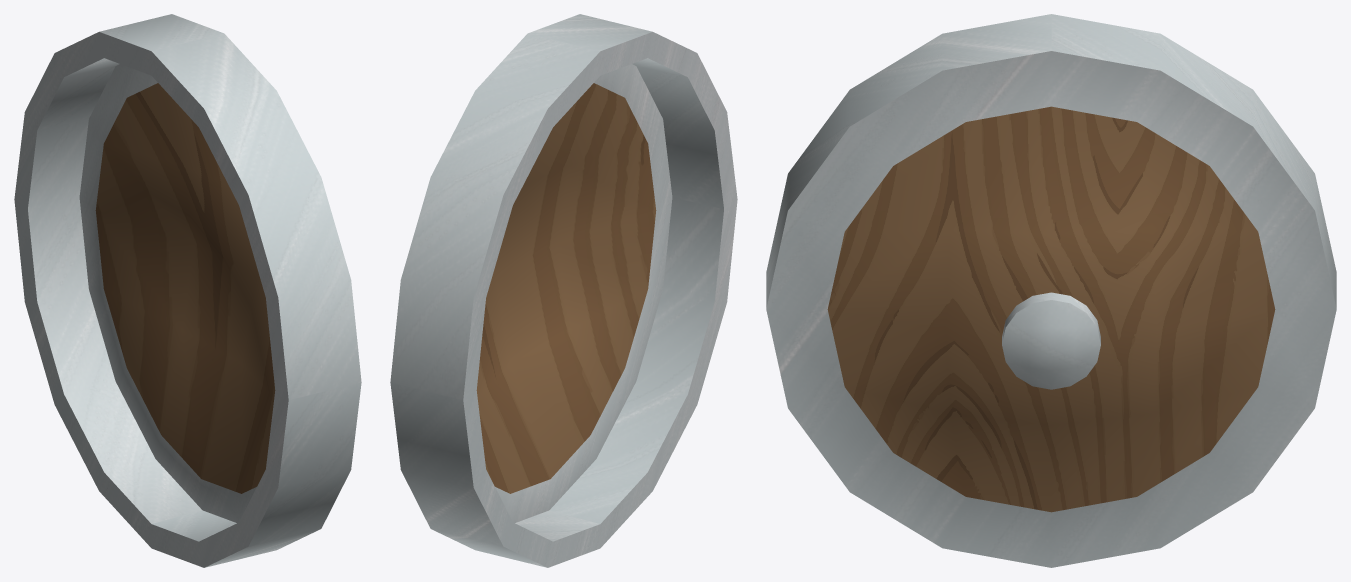
Rendered from ShieldD.fbx.
The picture shows the model from 3 angles, left to right: view 1: azimuth 30°, elevation 25°; view 2: azimuth 150°, elevation 25°; view 3: azimuth 270°, elevation 25°; orthographic projection. The views are drawn at different scales.
Parts seen in each view (by area): view 1: Shield D; view 2: Shield D; view 3: Shield D.
Part boxes in pixels (left/top/right/bottom): Shield D: left=14, top=14, right=361, bottom=567; Shield D: left=390, top=14, right=737, bottom=567; Shield D: left=766, top=14, right=1336, bottom=567.
Size of the model in its own units: 0.271 by 0.8311 by 0.8311.
